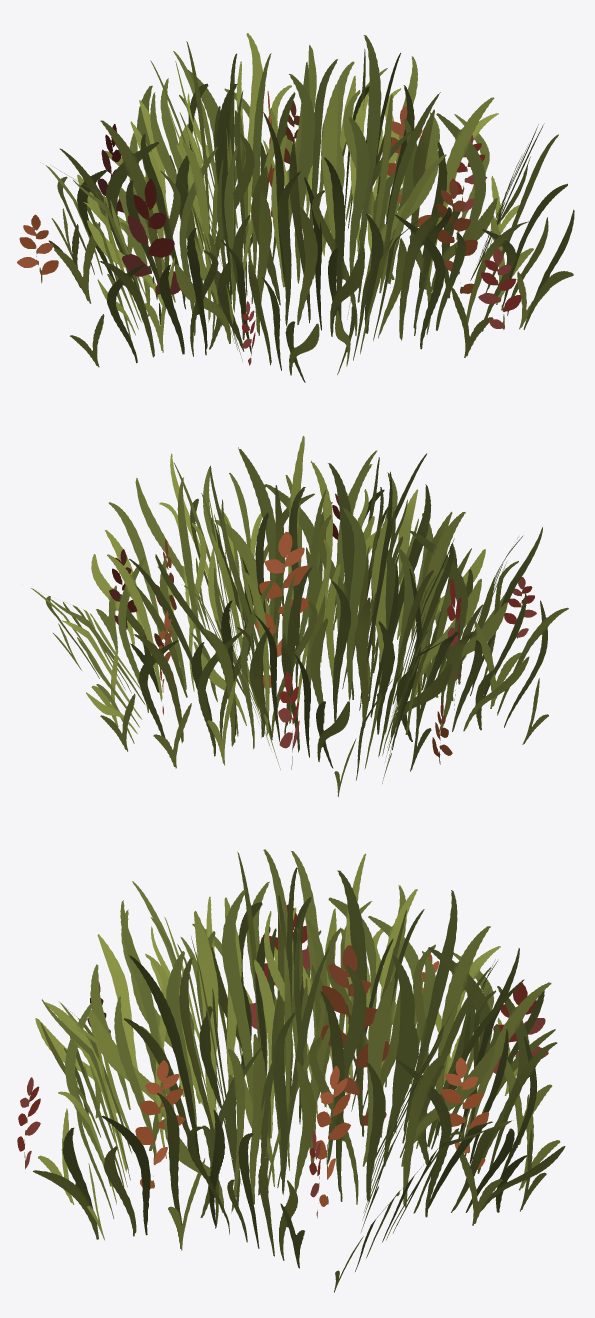
Rendered from Forest_Grass_5.fbx.
3 views of the same model, one above another, from view 1: azimuth 30°, elevation 25°; view 2: azimuth 150°, elevation 25°; view 3: azimuth 270°, elevation 25° (orthographic). The views are drawn at different scales.
Parts seen in each view (by area): view 1: Forest_Grass_5; view 2: Forest_Grass_5; view 3: Forest_Grass_5.
Boxes of the visible parts, <box> form: Forest_Grass_5: <box>17,33,574,382</box>; Forest_Grass_5: <box>31,436,568,797</box>; Forest_Grass_5: <box>17,849,565,1292</box>.
Size of the model in its own units: 146 by 75.32 by 123.
Materials: 1 (1 with a texture image).
